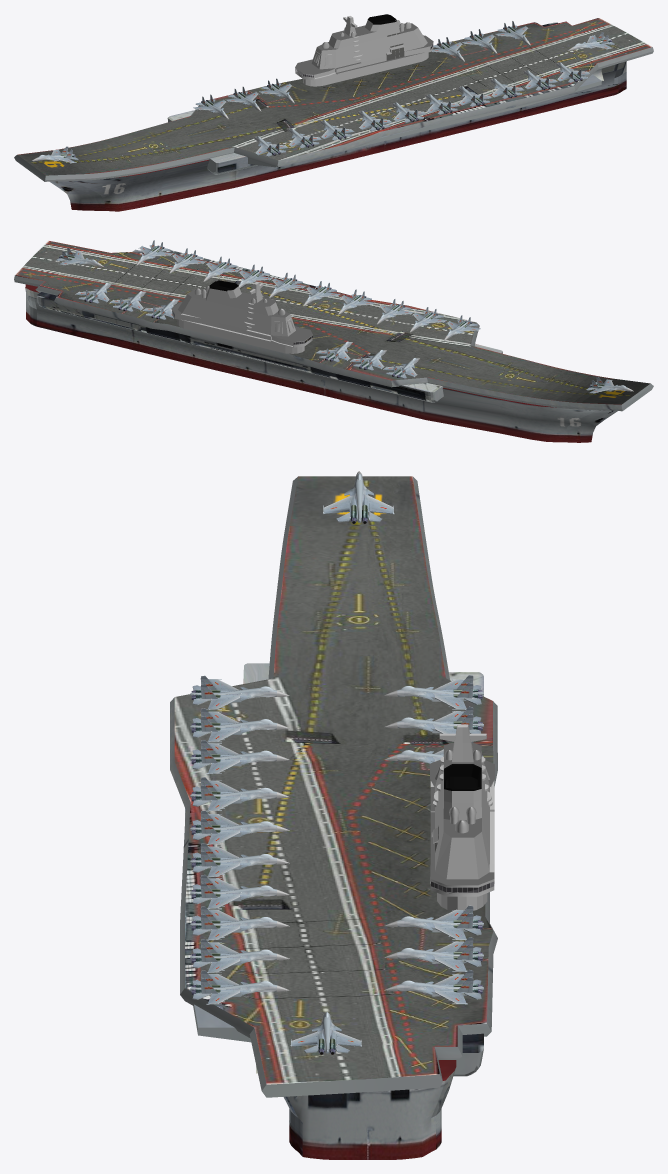
File: liaoninghao.glb
The picture shows the model from 3 angles, top to bottom: view 1: azimuth 30°, elevation 25°; view 2: azimuth 150°, elevation 25°; view 3: azimuth 270°, elevation 25°; orthographic projection. The views are drawn at different scales.
Parts seen in each view (by area): view 1: fxjb, jt, jd, j15_17, j15_12, j15_11, j15_13, j15_10, j15_8, j15_9, j15_6, j15_4 (+9 smaller); view 2: fxjb, jt, jd, j15_17, j15_18, j15_1, j15_15, j15_3, j15_16, j15_2, j15_6, j15_4 (+9 smaller); view 3: fxjb, jt, jd, j15_18, j15_6, j15_16, j15_5, j15_12, j15_11, j15_9, j15_15, j15_3 (+8 smaller).
Part boxes in pixels (<box>): fxjb: <box>14,18,653,181</box>; jt: <box>50,22,626,211</box>; jd: <box>295,14,433,86</box>; j15_17: <box>568,32,614,50</box>; j15_12: <box>522,70,557,90</box>; j15_11: <box>489,78,524,98</box>; j15_13: <box>555,62,590,82</box>; j15_10: <box>457,86,492,106</box>; j15_8: <box>391,102,426,122</box>; j15_9: <box>424,94,459,114</box>; j15_6: <box>319,120,354,140</box>; j15_4: <box>253,136,288,156</box>; fxjb: <box>14,240,653,411</box>; jt: <box>25,249,617,442</box>; jd: <box>171,280,312,353</box>; j15_17: <box>56,248,103,266</box>; j15_18: <box>586,376,633,393</box>; j15_1: <box>316,341,352,362</box>; j15_15: <box>109,291,146,311</box>; j15_3: <box>383,358,419,378</box>; j15_16: <box>75,282,112,303</box>; j15_2: <box>350,350,386,370</box>; j15_6: <box>377,299,413,324</box>; j15_4: <box>444,315,480,340</box>; fxjb: <box>170,476,497,1097</box>; jt: <box>185,663,483,1159</box>; jd: <box>429,724,494,911</box>; j15_18: <box>323,471,394,523</box>; j15_6: <box>190,740,289,774</box>; j15_16: <box>384,970,483,1004</box>; j15_5: <box>190,708,289,742</box>; j15_12: <box>190,939,289,972</box>; j15_11: <box>190,906,289,940</box>; j15_9: <box>190,843,289,877</box>; j15_15: <box>384,937,483,971</box>; j15_3: <box>384,675,483,709</box>.
Size of the model in its own units: 305 by 48.66 by 72.12.
Materials: 12 (6 with a texture image).
